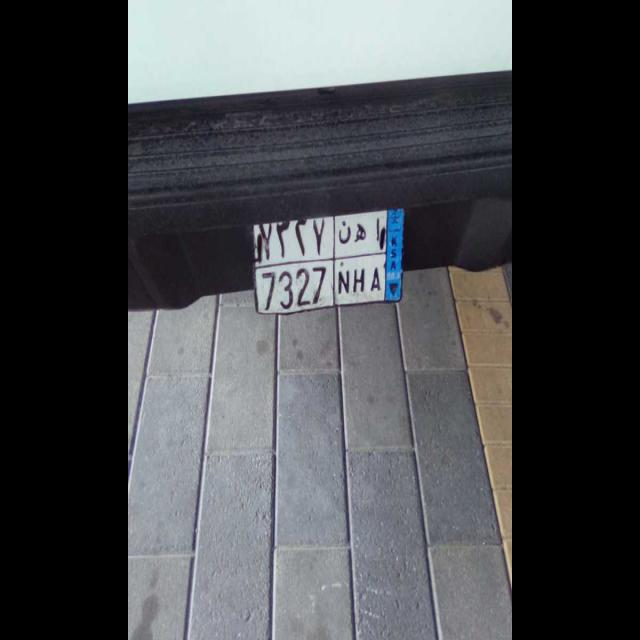license_plate: (252, 261, 388, 318)
